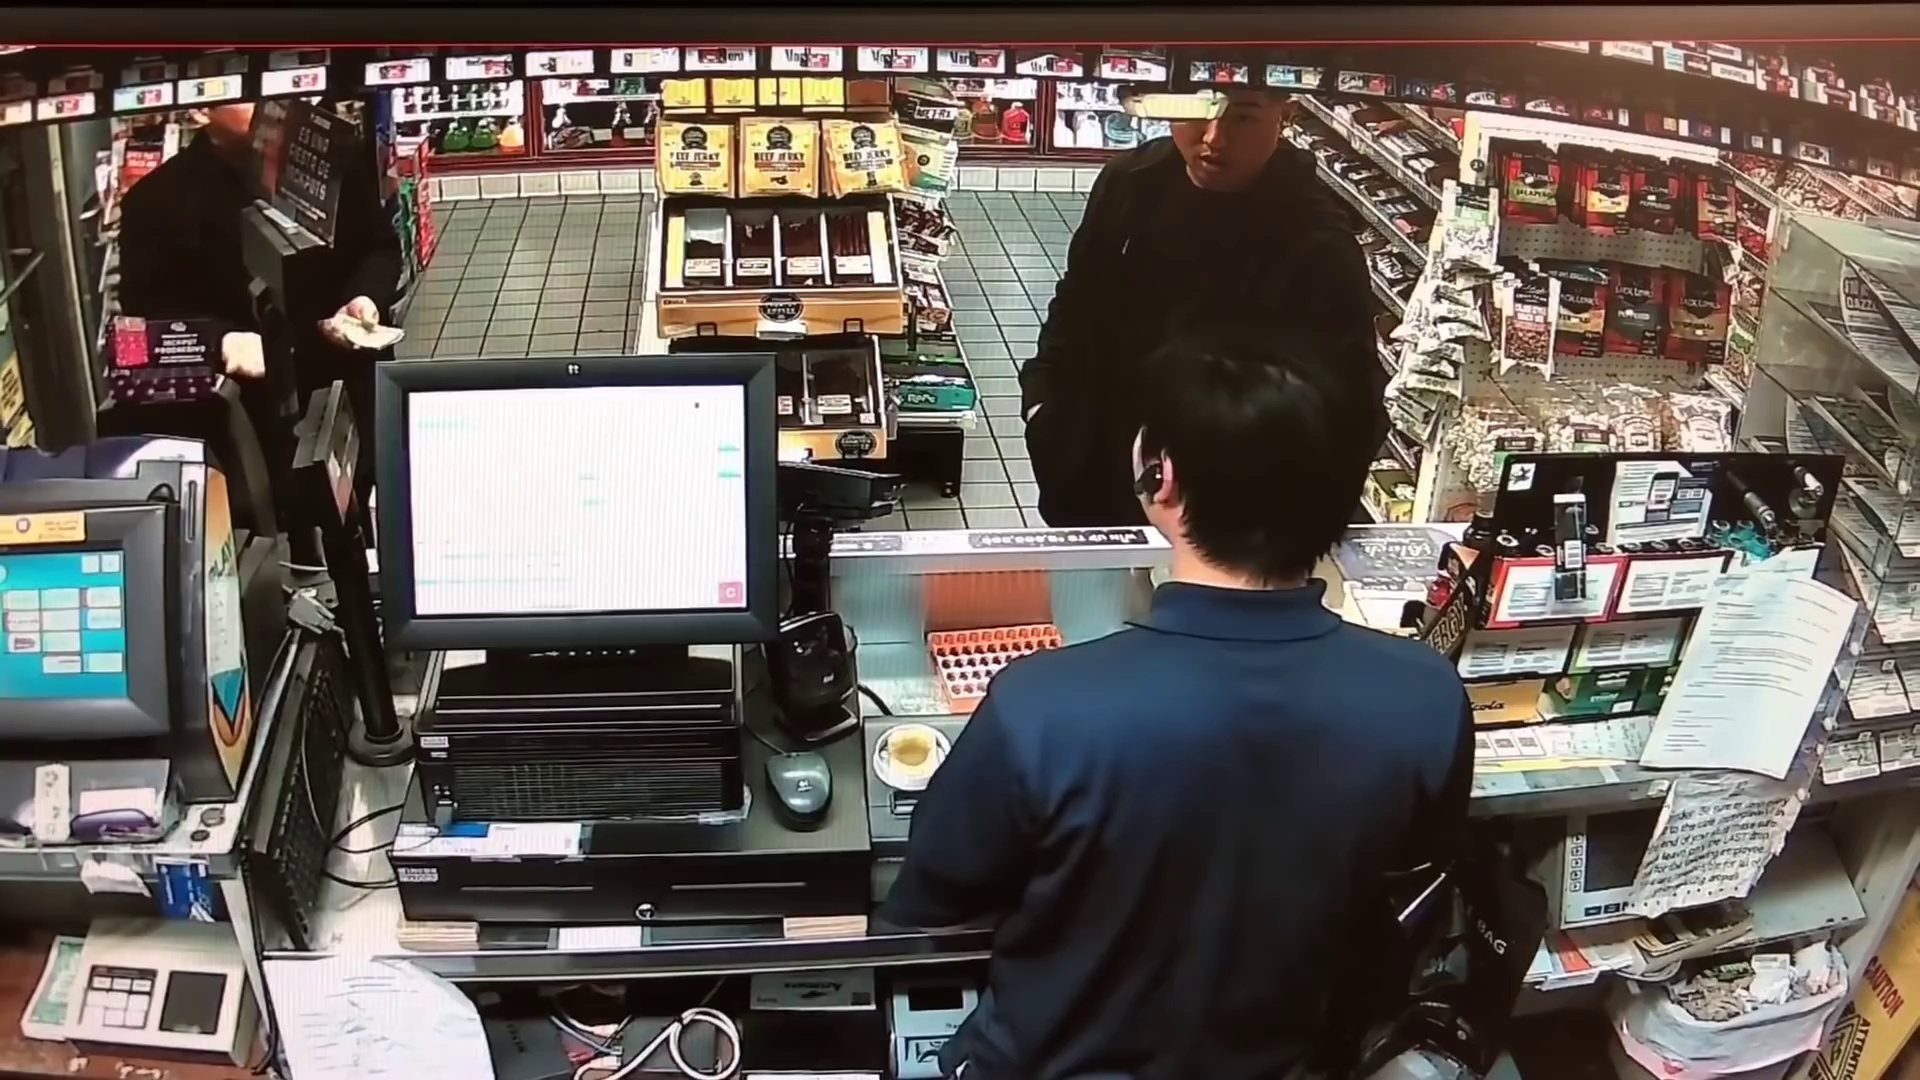face: (1178, 91, 1263, 188)
